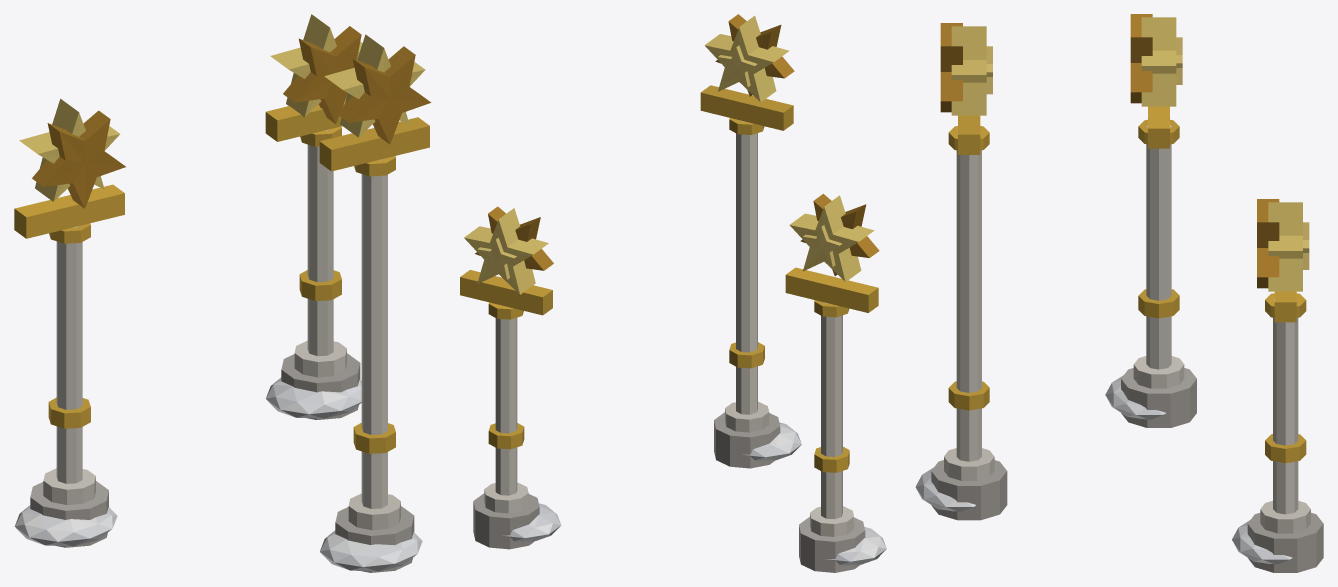
Rendered from Decor_CloudTemple_StarLanterns.fbx.
3 views of the same model, side by side, from view 1: azimuth 30°, elevation 25°; view 2: azimuth 150°, elevation 25°; view 3: azimuth 270°, elevation 25° (orthographic). The views are drawn at different scales.
Visible parts, largest first — view 1: StarLanterns_Body; view 2: StarLanterns_Body; view 3: StarLanterns_Body.
Part boxes in pixels (bbox=[...]): StarLanterns_Body: bbox=[14, 14, 431, 572]; StarLanterns_Body: bbox=[460, 14, 886, 572]; StarLanterns_Body: bbox=[915, 14, 1323, 572].
Size of the model in its own units: 14.3 by 16.7 by 12.9.
